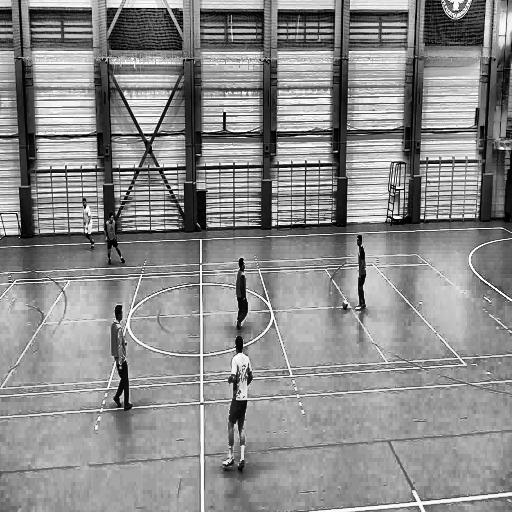ball: (340, 298, 350, 313)
player: (222, 334, 254, 474), (109, 305, 134, 414), (102, 210, 126, 268), (233, 256, 250, 331), (354, 233, 368, 314), (80, 195, 96, 254)
